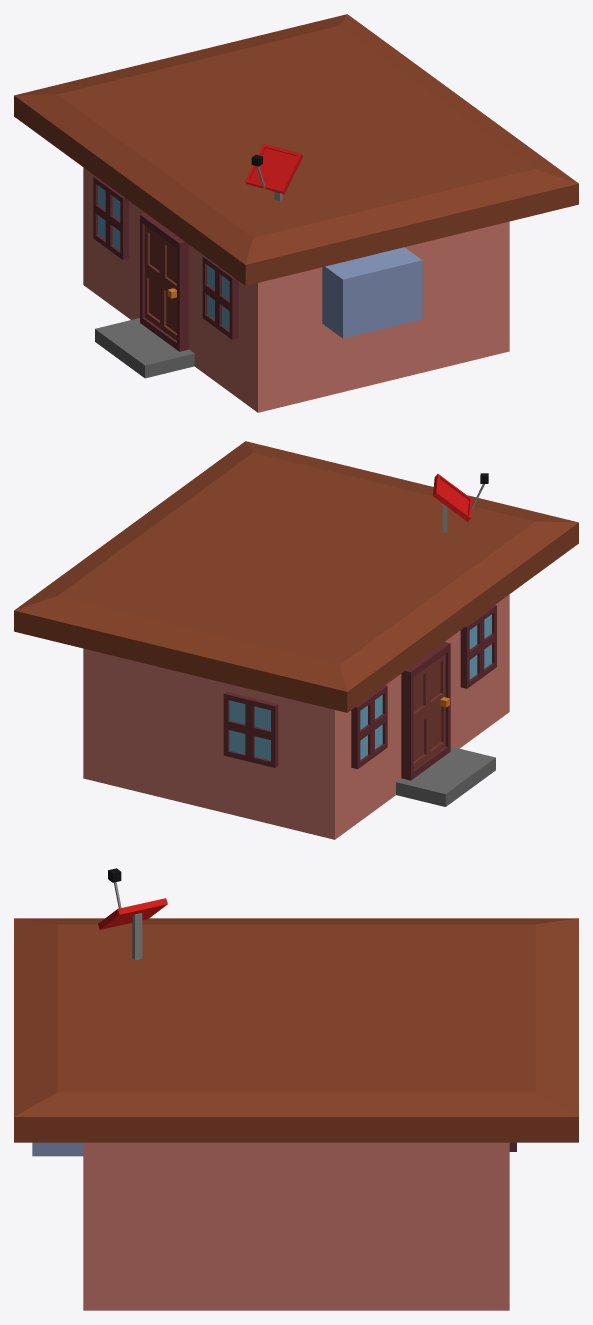
The model's file is casitapro.fbx.
3 views of the same model, one above another, from view 1: azimuth 30°, elevation 25°; view 2: azimuth 150°, elevation 25°; view 3: azimuth 270°, elevation 25° (orthographic). The views are drawn at different scales.
Parts seen in each view (by area): view 1: Cube, Cube.007, Cube.002, Cube.005, Cube.004, Cube.003, Cube.001; view 2: Cube, Cube.002, Cube.006, Cube.005, Cube.004, Cube.003, Cube.001; view 3: Cube, Cube.001, Cube.007.
Boxes of the visible parts, x1,y1,x2,y2 form: Cube: (14,14,578,412); Cube.007: (322,247,422,338); Cube.002: (140,213,188,351); Cube.005: (95,318,194,378); Cube.004: (93,176,129,259); Cube.003: (202,256,238,339); Cube.001: (245,144,303,201); Cube: (14,441,578,839); Cube.002: (401,642,450,780); Cube.006: (223,691,278,767); Cube.005: (396,746,495,806); Cube.004: (351,685,387,769); Cube.003: (460,605,496,688); Cube.001: (433,473,488,532); Cube: (14,918,578,1310); Cube.001: (98,868,167,960); Cube.007: (32,1142,83,1156).
Bounding box in the file's own units: 999 × 679 × 1171.
